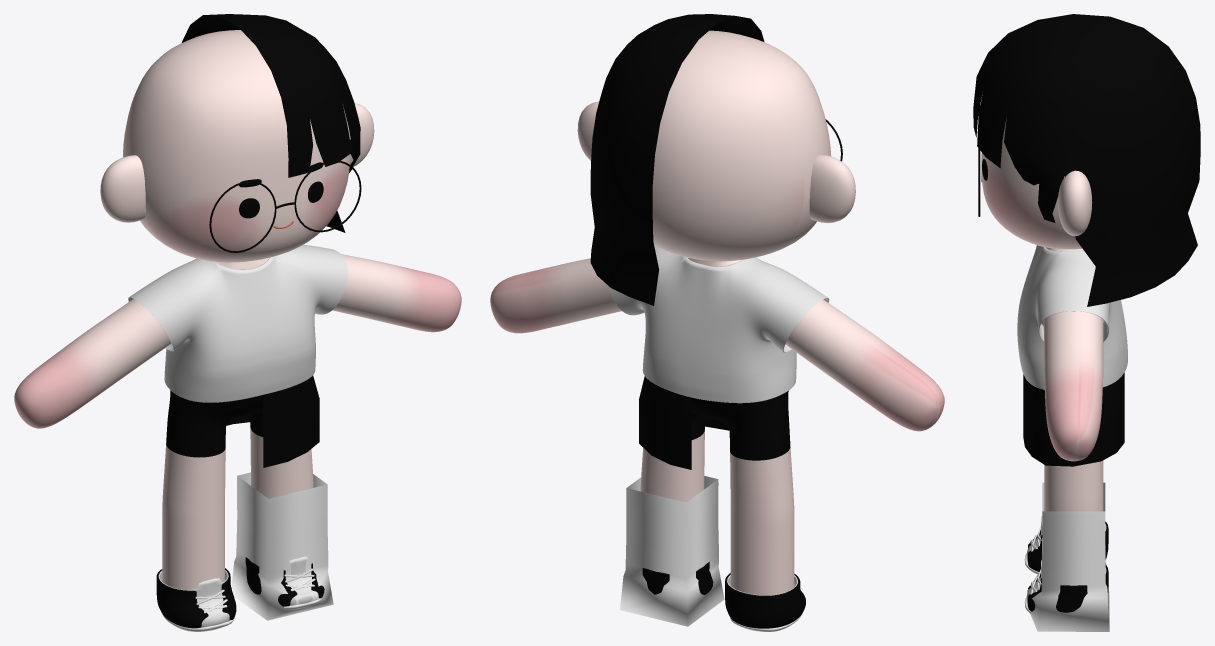
Rendered from jinni.gltf.
The picture shows the model from 3 angles, left to right: view 1: azimuth 30°, elevation 25°; view 2: azimuth 150°, elevation 25°; view 3: azimuth 270°, elevation 25°; orthographic projection. The views are drawn at different scales.
Parts seen in each view (by area): view 1: body, tshirts, hair3, L.socks, SHOES, skirt, 원형, face1; view 2: body, tshirts, hair3, L.socks, skirt, SHOES; view 3: hair3, body, tshirts, L.socks, skirt, SHOES.
Part boxes in pixels (bbox=[...]): body: bbox=[14, 30, 461, 589]; tshirts: bbox=[128, 244, 347, 402]; hair3: bbox=[181, 14, 360, 232]; L.socks: bbox=[231, 472, 333, 620]; SHOES: bbox=[156, 556, 324, 631]; skirt: bbox=[226, 375, 319, 467]; 원형: bbox=[209, 160, 361, 252]; face1: bbox=[239, 162, 323, 218]; body: bbox=[490, 30, 944, 595]; tshirts: bbox=[607, 245, 829, 403]; hair3: bbox=[590, 14, 764, 305]; L.socks: bbox=[620, 476, 724, 626]; skirt: bbox=[639, 376, 729, 469]; SHOES: bbox=[642, 562, 805, 631]; hair3: bbox=[973, 14, 1200, 306]; body: bbox=[981, 117, 1103, 511]; tshirts: bbox=[1017, 245, 1127, 389]; L.socks: bbox=[1027, 482, 1109, 631]; skirt: bbox=[1023, 372, 1124, 466]; SHOES: bbox=[1024, 516, 1108, 613].
Bounding box in the file's own units: 4.36 × 5.51 × 1.96.
10 materials, 1 textured.
